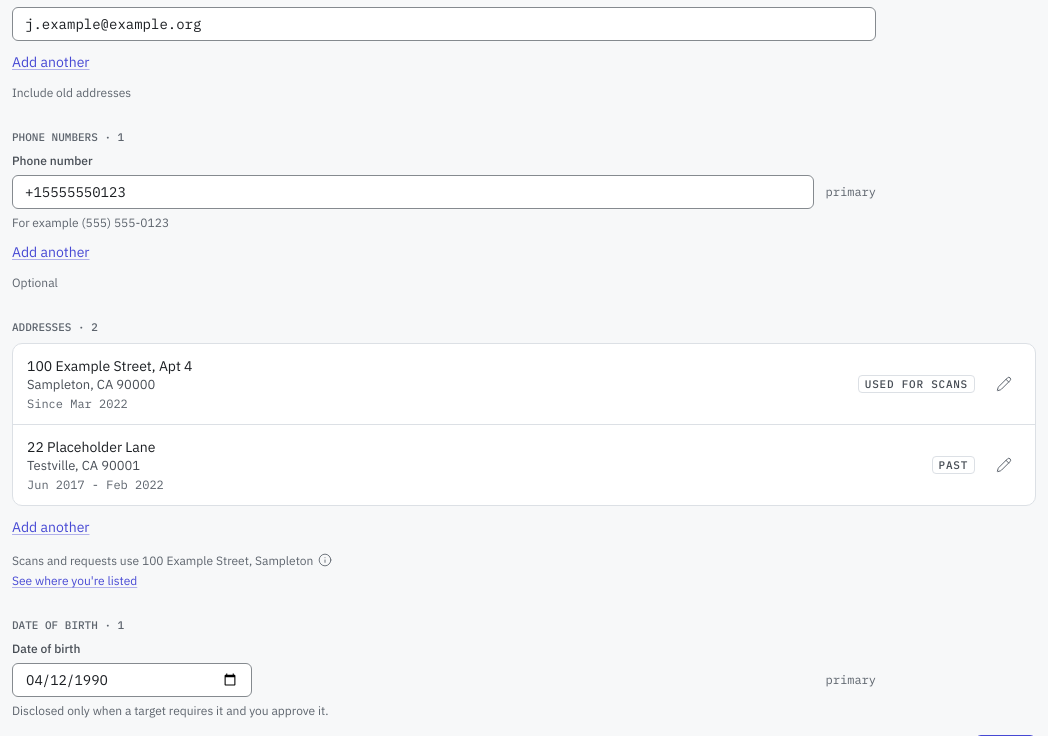
it: the profile page › keeps a row open when Done finds a problem in it
(page scrolled)
Click the button named "Edit address 1": (1004,384) [987,367,1021,401]
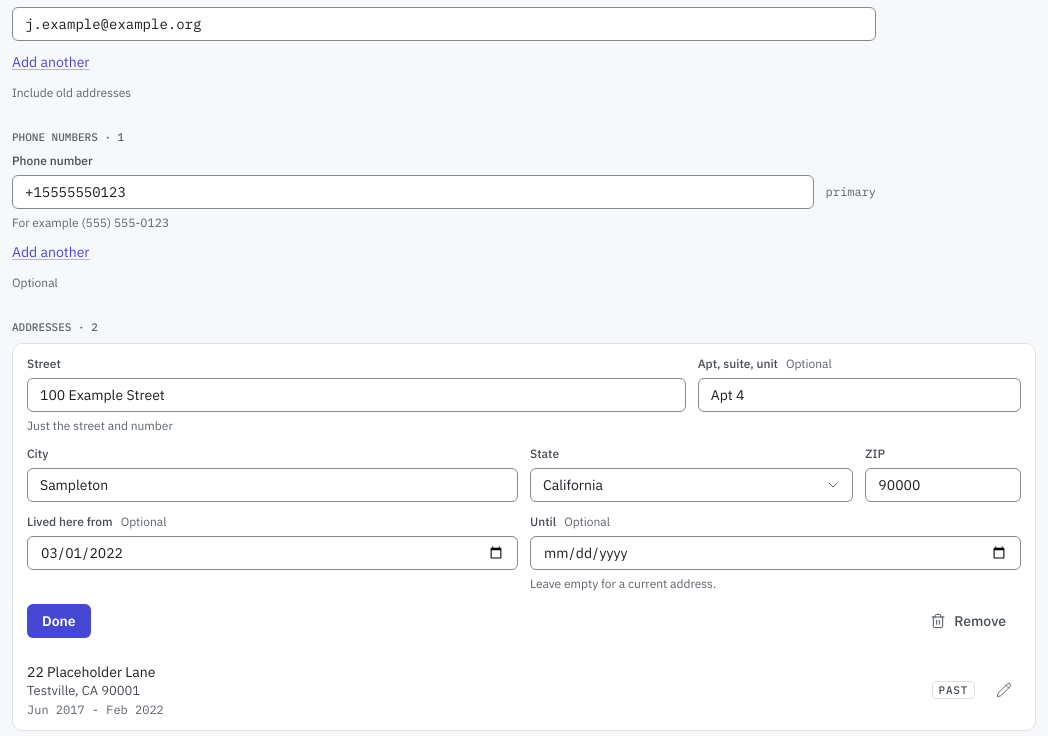
Clear the field labelled "City": (272,485) [27,468,518,502]
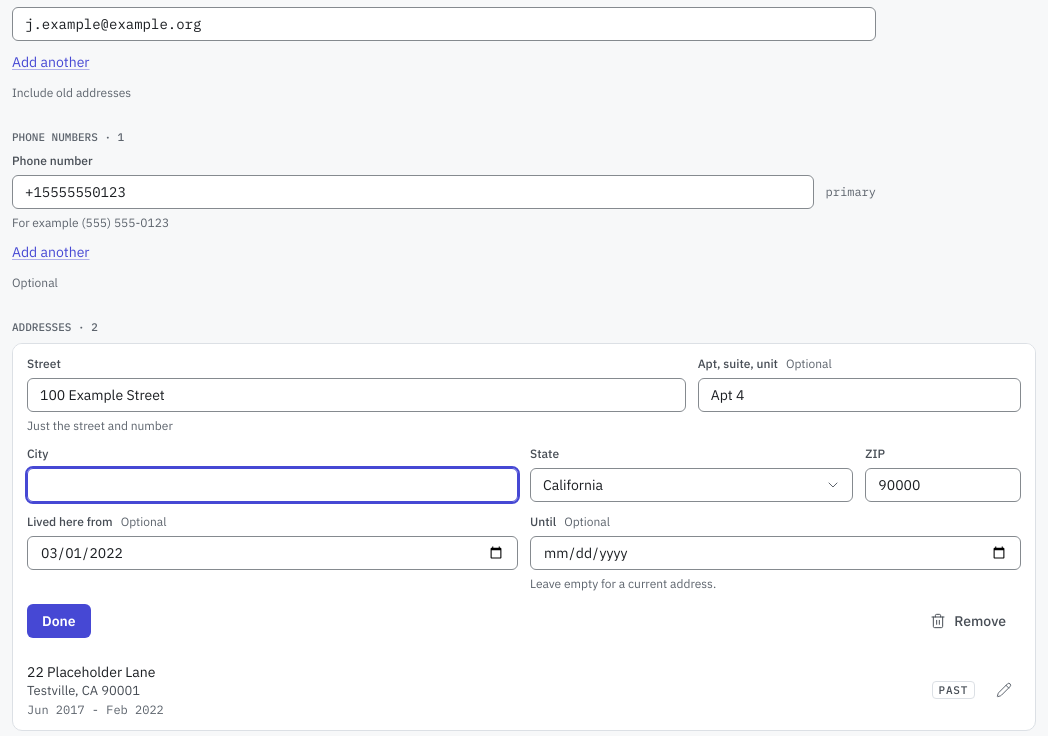
Click the button "Done": (59,621) [27,604,91,638]
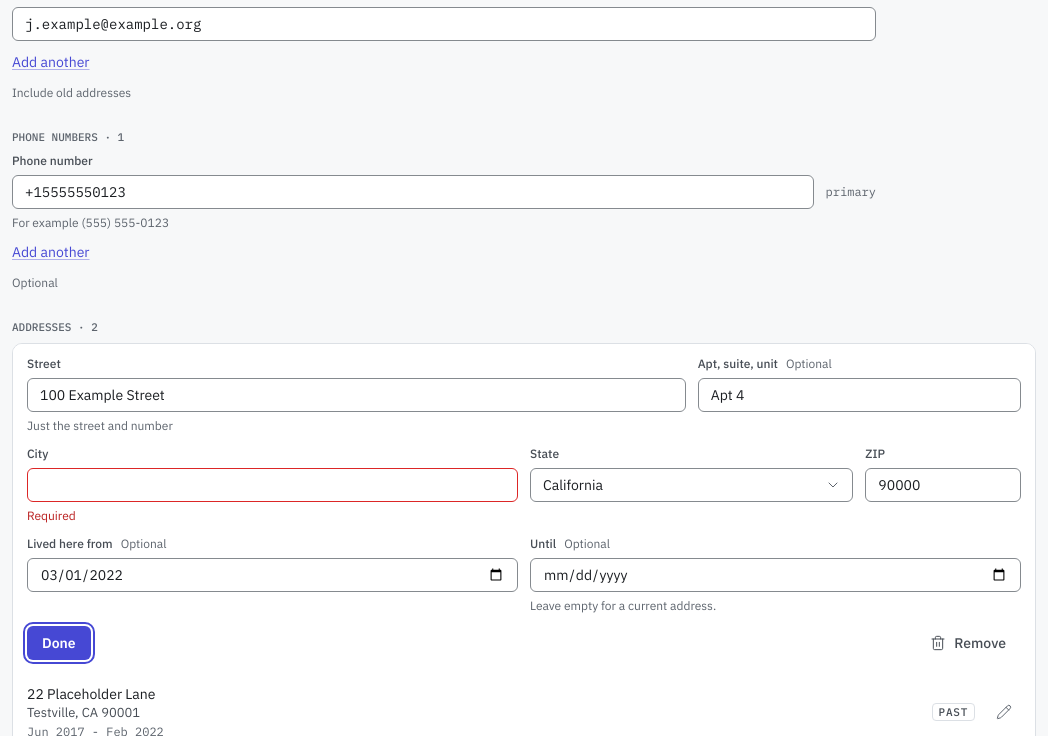
Check: the element named "Address 1" is shown, box [13,344,1035,672]
Check: the text "Required" is shown, box [27,508,76,523]
